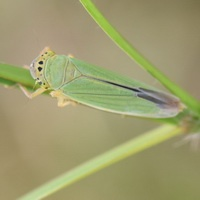insect: (19, 48, 183, 117)
